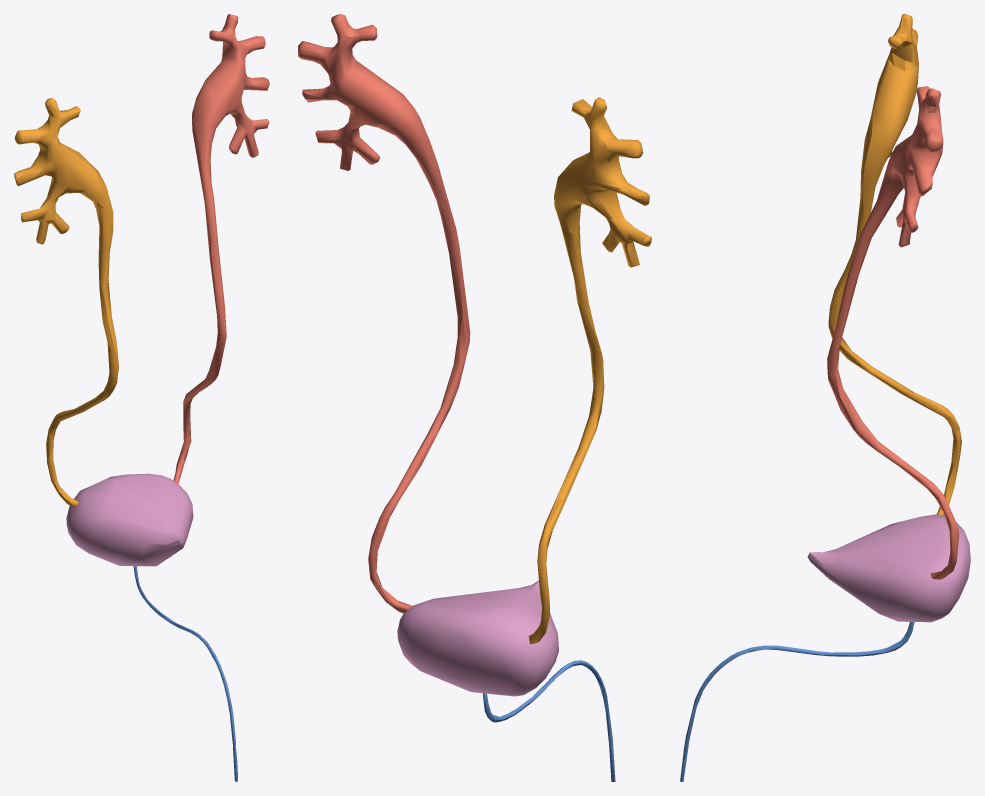
File: bladder.glb
3 views of the same model, side by side, from view 1: azimuth 30°, elevation 25°; view 2: azimuth 150°, elevation 25°; view 3: azimuth 270°, elevation 25° (orthographic). The views are drawn at different scales.
Visible parts, largest first — view 1: Urinary bladder, Left ureter, Right ureter, Urethra; view 2: Left ureter, Urinary bladder, Right ureter, Urethra; view 3: Urinary bladder, Left ureter, Right ureter, Urethra.
Boxes of the visible parts, x1=… form: Urinary bladder: x1=66, y1=473, x2=193, y2=566; Left ureter: x1=173, y1=14, x2=269, y2=483; Right ureter: x1=14, y1=97, x2=118, y2=507; Urethra: x1=133, y1=566, x2=237, y2=781; Left ureter: x1=298, y1=14, x2=470, y2=613; Urinary bladder: x1=397, y1=580, x2=558, y2=696; Right ureter: x1=528, y1=97, x2=651, y2=644; Urethra: x1=482, y1=660, x2=615, y2=781; Urinary bladder: x1=807, y1=514, x2=970, y2=622; Left ureter: x1=827, y1=86, x2=959, y2=579; Right ureter: x1=828, y1=14, x2=961, y2=515; Urethra: x1=680, y1=622, x2=914, y2=781.
Bounding box in the file's own units: 0.8345 × 2 × 0.7013.
